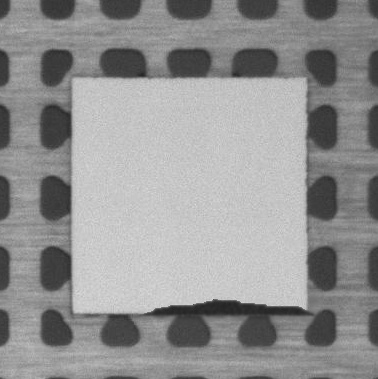DIE_BROKEN: (137, 297, 315, 319)
